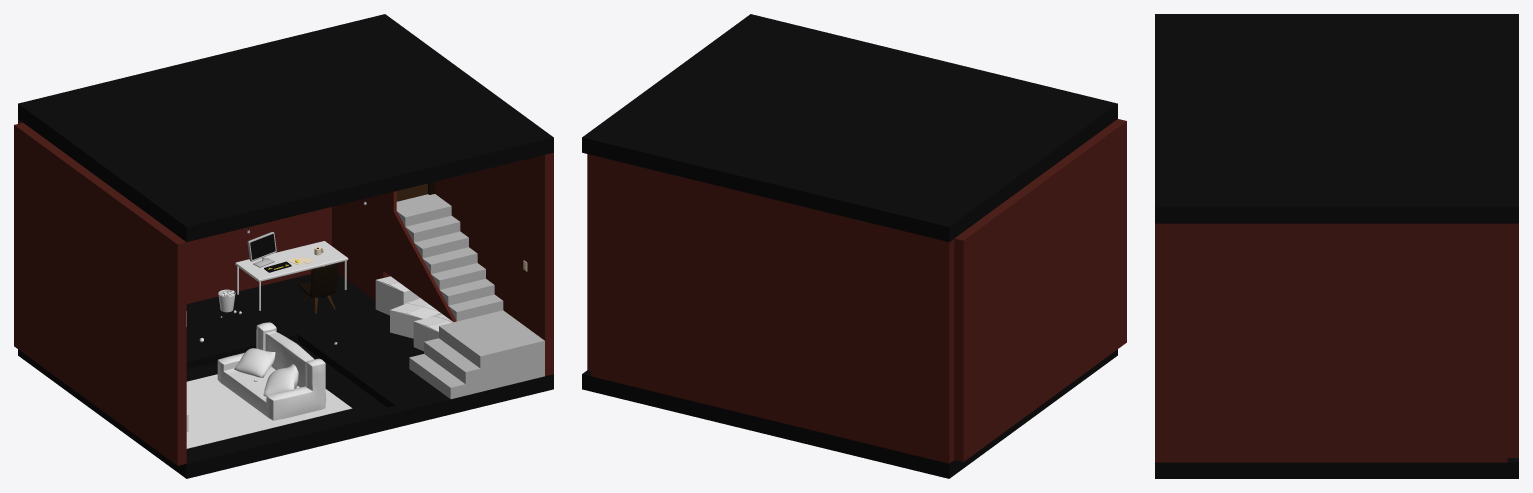
The model's file is Sotano.FBX.
3 renders of one model, left to right at view 1: azimuth 30°, elevation 25°; view 2: azimuth 150°, elevation 25°; view 3: azimuth 270°, elevation 25°, orthographic. The views are drawn at different scales.
Parts seen in each view (by area): view 1: Techo, Pared3, Suelo, Escaleras, Pared2, Pared1, Sofá, Alfombra, Mesa, Caja5, Silla, Caja4 (+4 smaller); view 2: Pared1, Techo, Pared3, Suelo, Pared2; view 3: Pared2, Techo, Suelo, Pared1.
Part boxes in pixels (x1=…): Techo: x1=18, y1=14, x2=553, y2=242; Pared3: x1=14, y1=122, x2=186, y2=465; Suelo: x1=18, y1=273, x2=553, y2=478; Escaleras: x1=332, y1=191, x2=544, y2=398; Pared2: x1=435, y1=152, x2=553, y2=376; Pared1: x1=18, y1=119, x2=331, y2=303; Sofá: x1=217, y1=322, x2=325, y2=420; Alfombra: x1=186, y1=374, x2=352, y2=448; Mesa: x1=235, y1=241, x2=348, y2=310; Caja5: x1=390, y1=298, x2=442, y2=338; Silla: x1=298, y1=263, x2=337, y2=313; Caja4: x1=375, y1=276, x2=419, y2=315; Pared1: x1=591, y1=155, x2=954, y2=463; Techo: x1=582, y1=14, x2=1117, y2=241; Pared3: x1=954, y1=119, x2=1126, y2=461; Suelo: x1=582, y1=349, x2=1117, y2=478; Pared2: x1=587, y1=154, x2=590, y2=370; Pared2: x1=1155, y1=223, x2=1507, y2=462; Techo: x1=1155, y1=14, x2=1518, y2=223; Suelo: x1=1155, y1=458, x2=1518, y2=478; Pared1: x1=1507, y1=223, x2=1518, y2=457.
Bounding box in the file's own units: 259 × 166 × 201.
